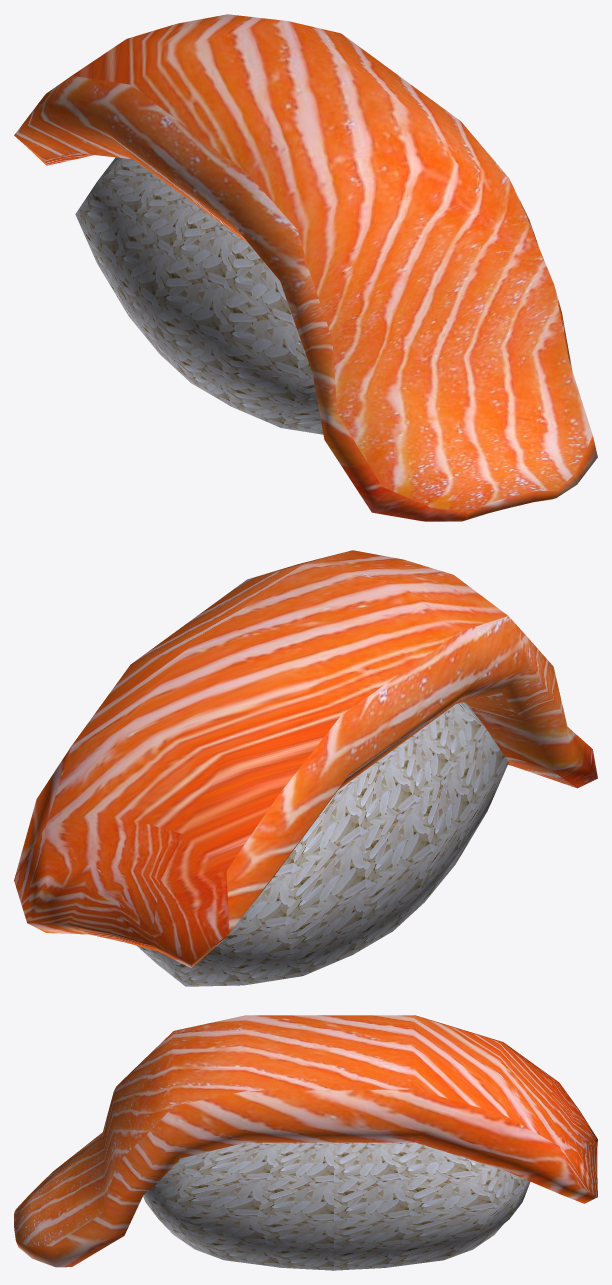
The model's file is sushi.fbx.
The picture shows the model from 3 angles, top to bottom: view 1: azimuth 30°, elevation 25°; view 2: azimuth 150°, elevation 25°; view 3: azimuth 270°, elevation 25°; orthographic projection. The views are drawn at different scales.
Visible parts, largest first — view 1: Cube.001, Cube; view 2: Cube.001, Cube; view 3: Cube.001, Cube.
Boxes of the visible parts, x1,y1,x2,y2 form: Cube.001: (14, 14, 597, 521); Cube: (75, 157, 323, 434); Cube.001: (14, 550, 597, 967); Cube: (137, 702, 508, 986); Cube.001: (14, 1015, 597, 1267); Cube: (143, 1142, 530, 1270).
Bounding box in the file's own units: 11.98 × 12.66 × 30.89.
Materials: 2 (2 with a texture image).
